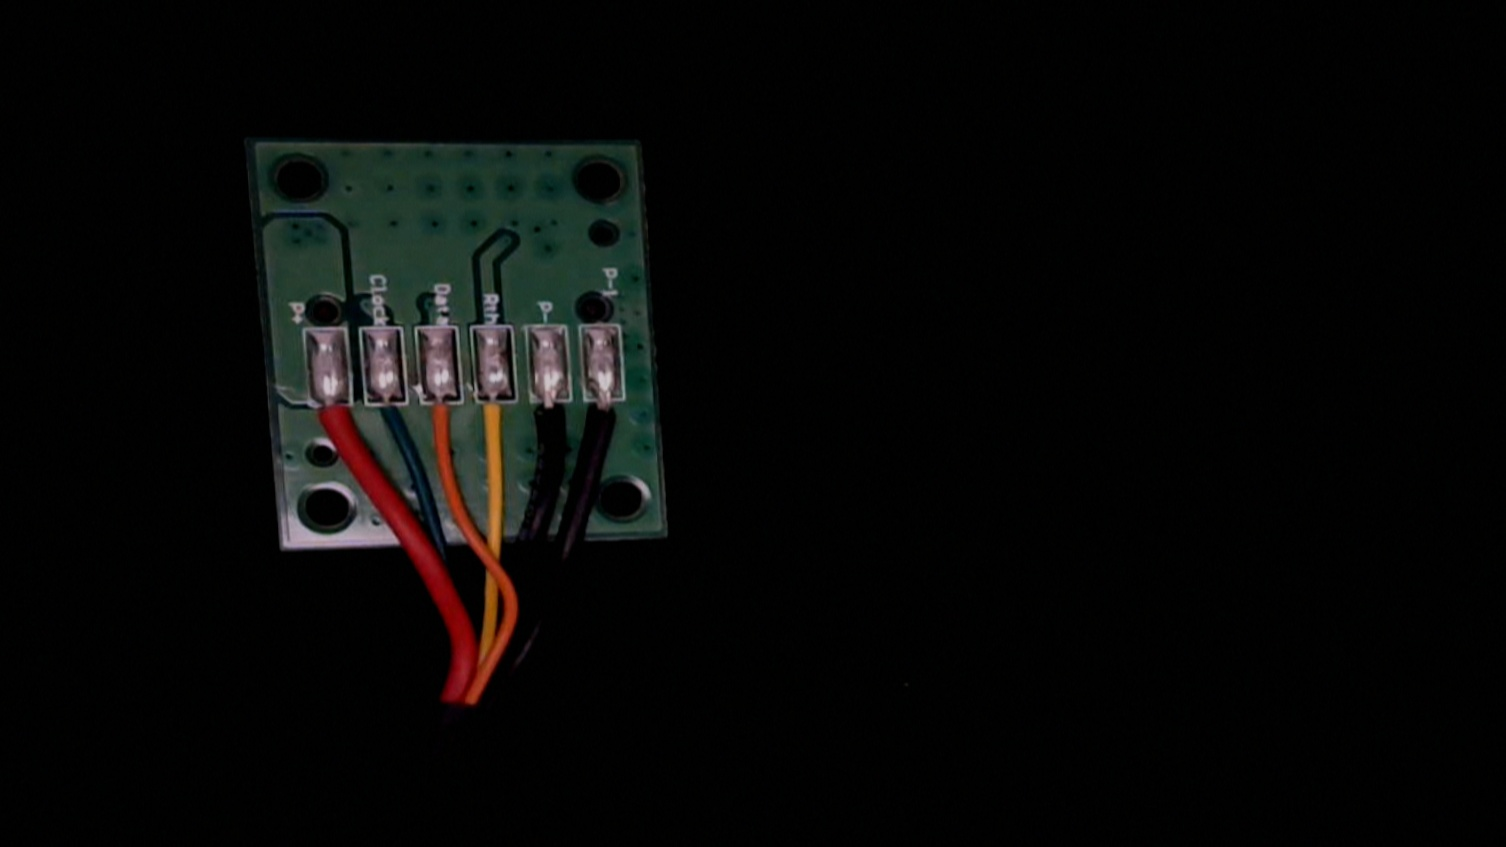Black: (526, 376, 577, 465)
Black1: (584, 375, 634, 457)
Green: (363, 379, 414, 463)
Orange: (418, 379, 466, 465)
Red: (306, 380, 357, 464)
Yellow: (473, 379, 523, 467)
